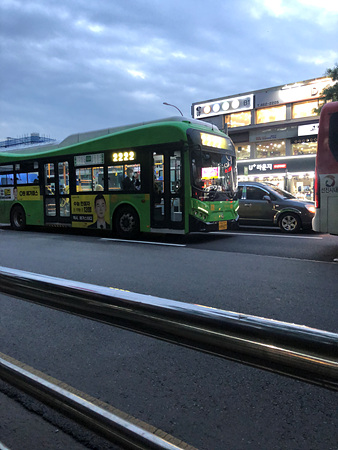entrance: (148, 142, 186, 228)
